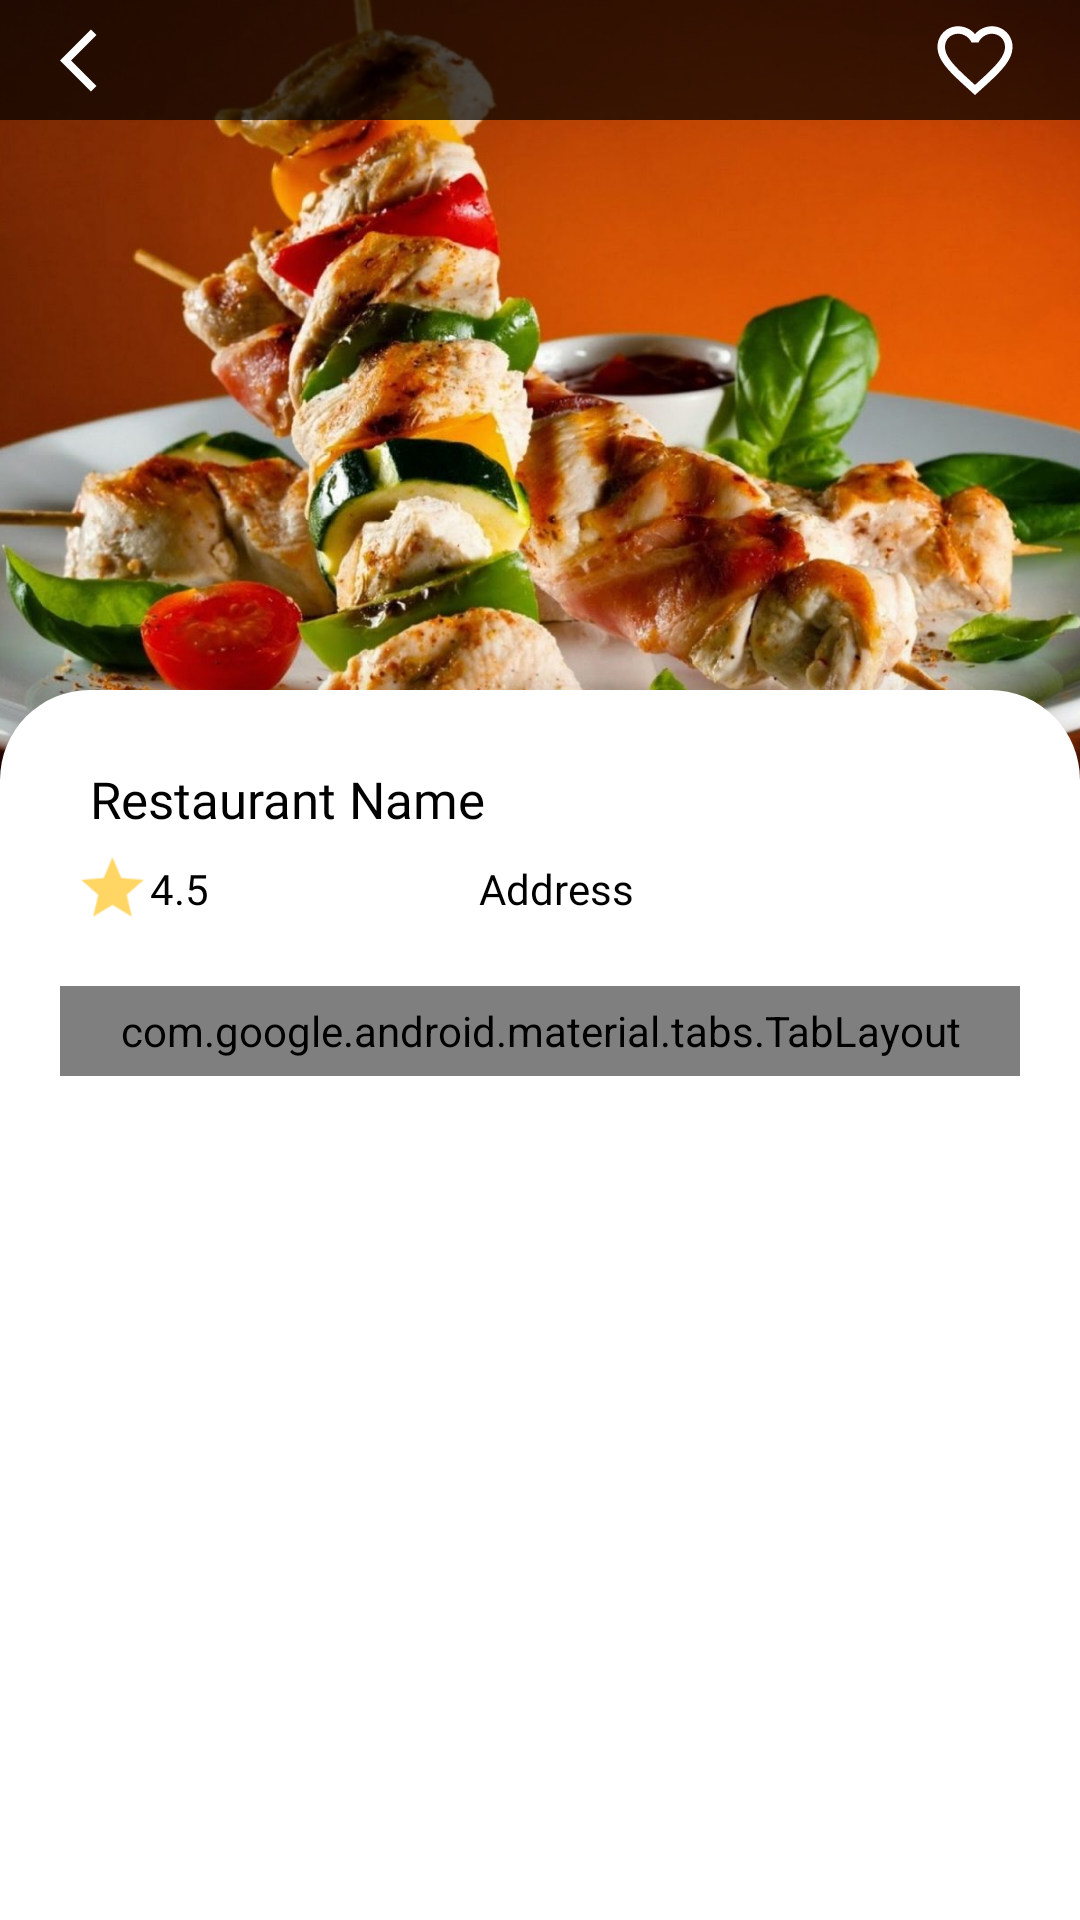

Icons on this 1080px x 1920px Android screen, each with its box as (x1, y1, x2, y2):
back: (60, 29, 97, 92)
favourite: (937, 26, 1013, 95)
rate: (81, 857, 144, 916)
